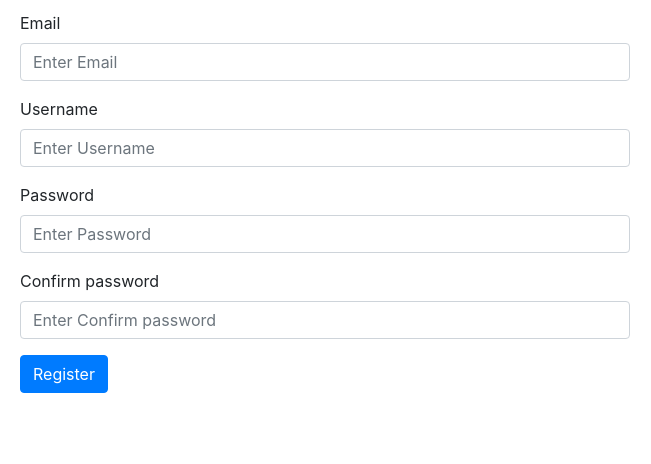
Test: Register component › Register attemp › Should not register if email already registered, render corresponsed error message correctly
In the field labelled "Email": (325, 62) [20,43,630,81], type "sameuser@gmail.com"
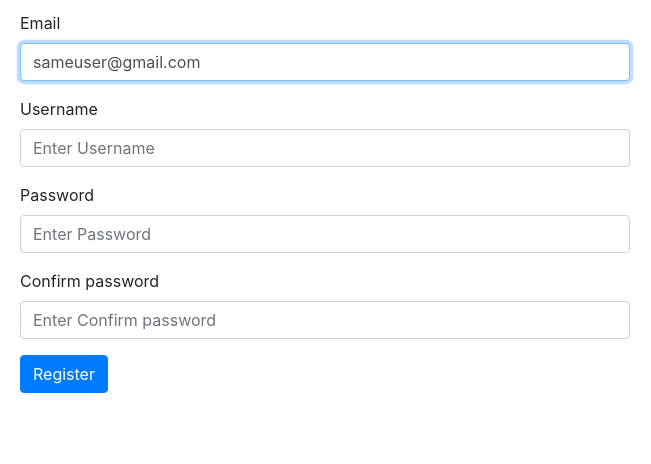
In the field labelled "Username": (325, 148) [20,129,630,167], type "sameuser"
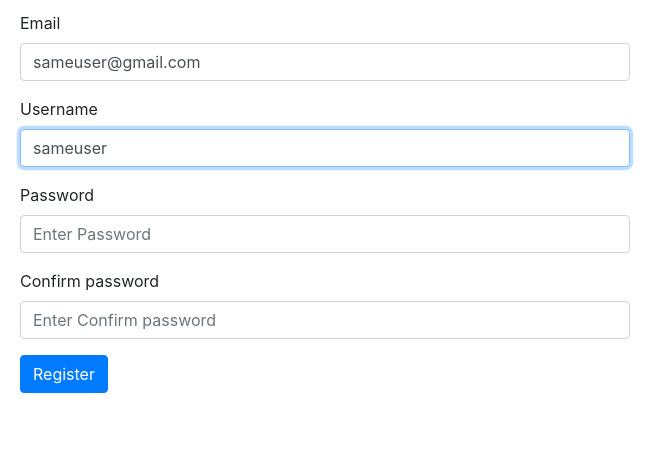
In the password field labelled "Password": (325, 234) [20,215,630,253], type "123123"
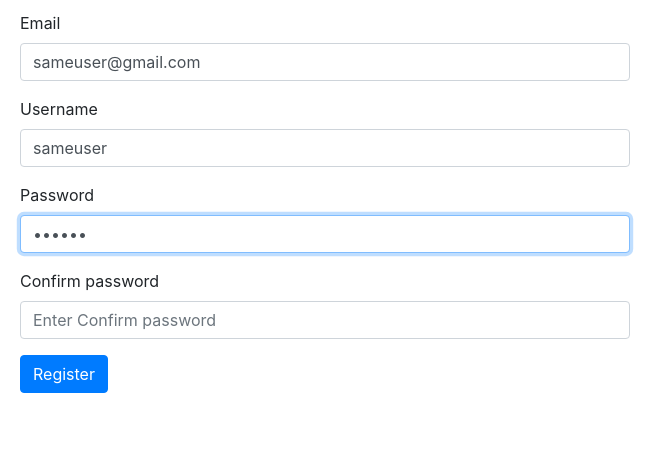
In the password field labelled "Confirm password": (325, 320) [20,301,630,339], type "123123"
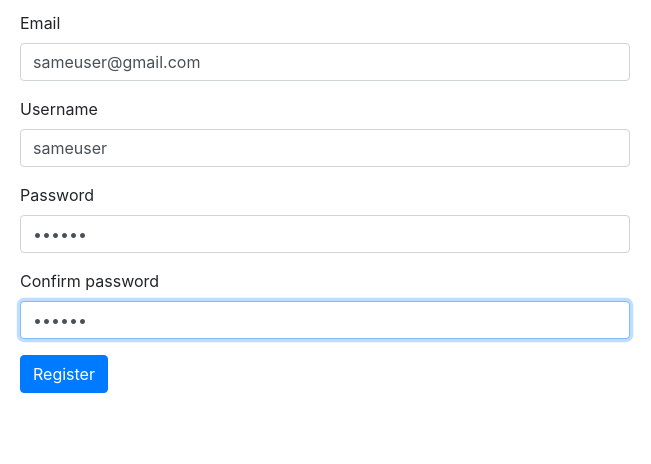
Click the button "Register": (64, 374) [20,355,108,393]
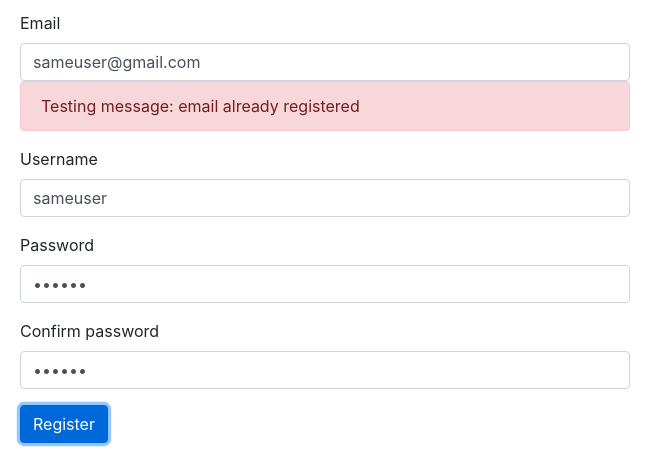
Result: the message "Testing message: email already registered" is shown at [20,81,630,131]
